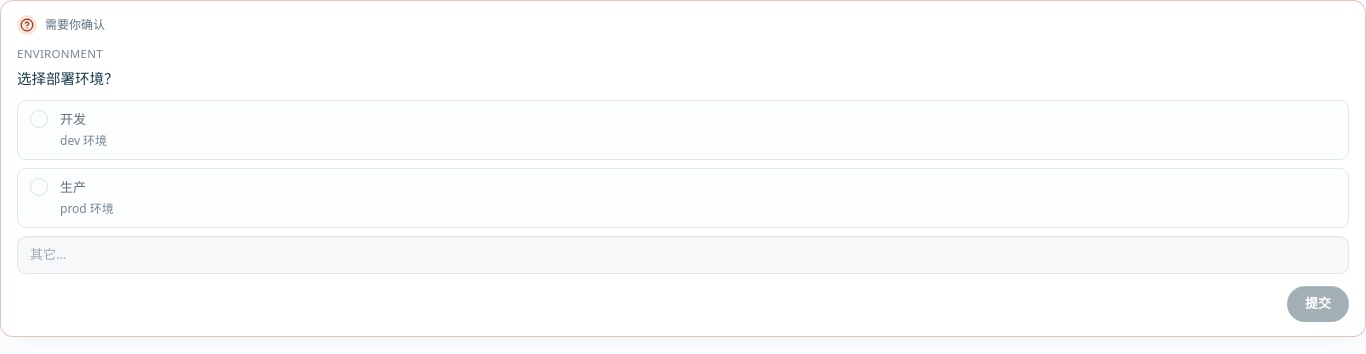
Test: AskUserCard — pending (interactive, amber) › allows answering with Other text only (no option picked)
The image size is (1366, 354).
Type "自定义环境" into the field with placeholder "其它…" at point(683, 255), box [17,236,1349,274]
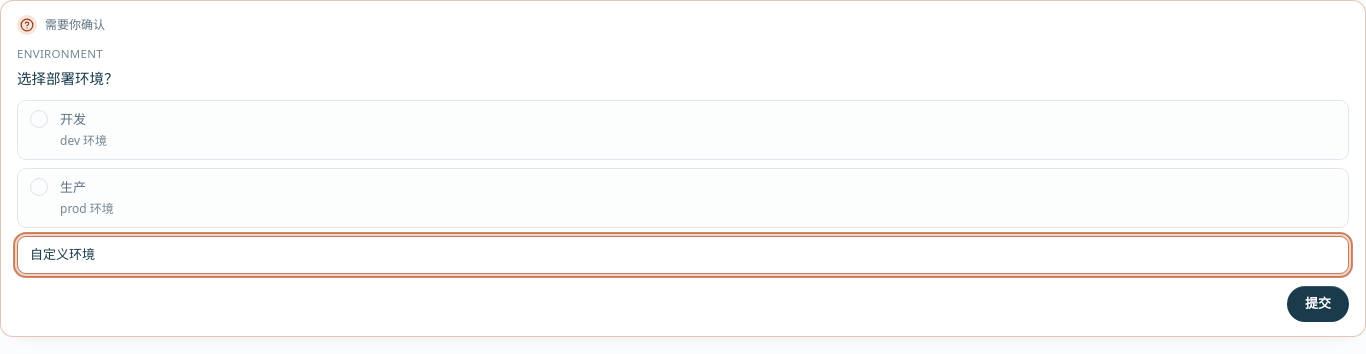
Check: the button "提交" is enabled, box [1287,286,1349,322]
